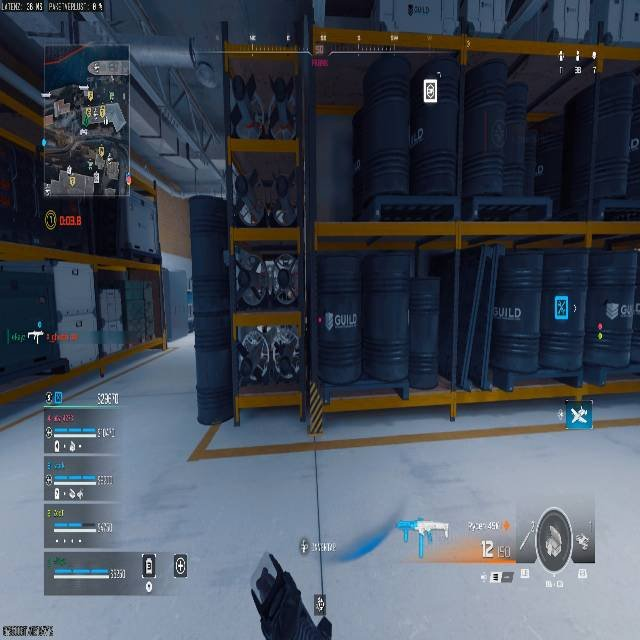player: (34, 81, 127, 185)
